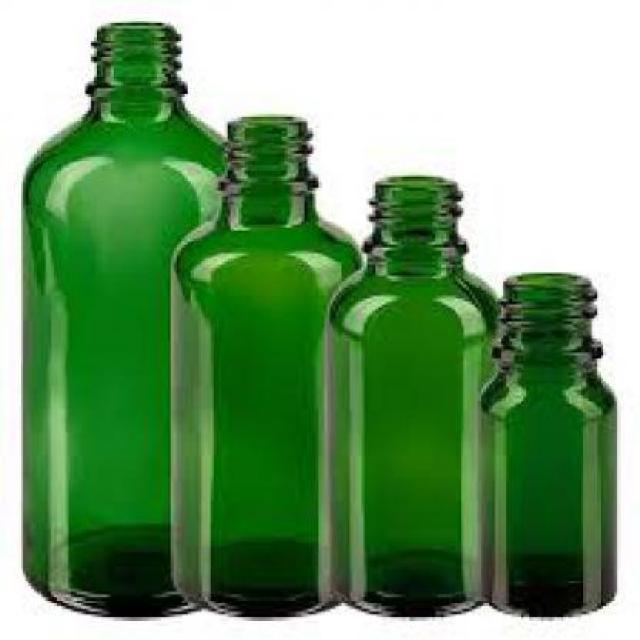kaca: (23, 17, 228, 612), (168, 114, 358, 614), (322, 174, 496, 611), (475, 271, 614, 617)
